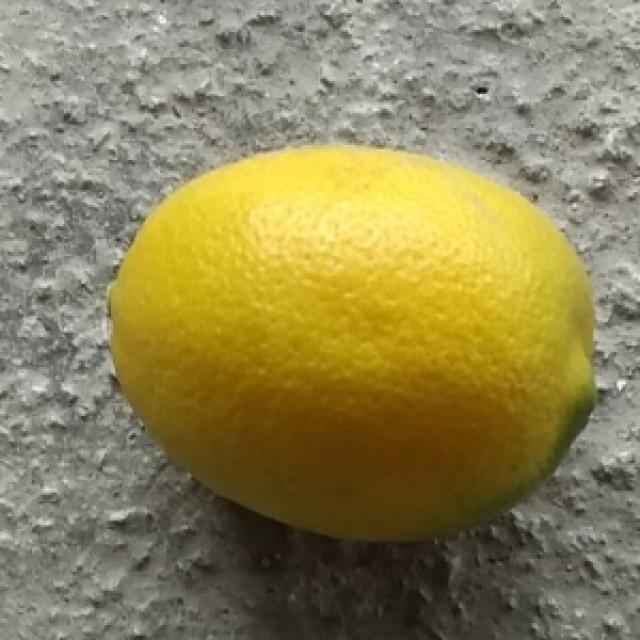Lemon: (103, 140, 605, 548)
